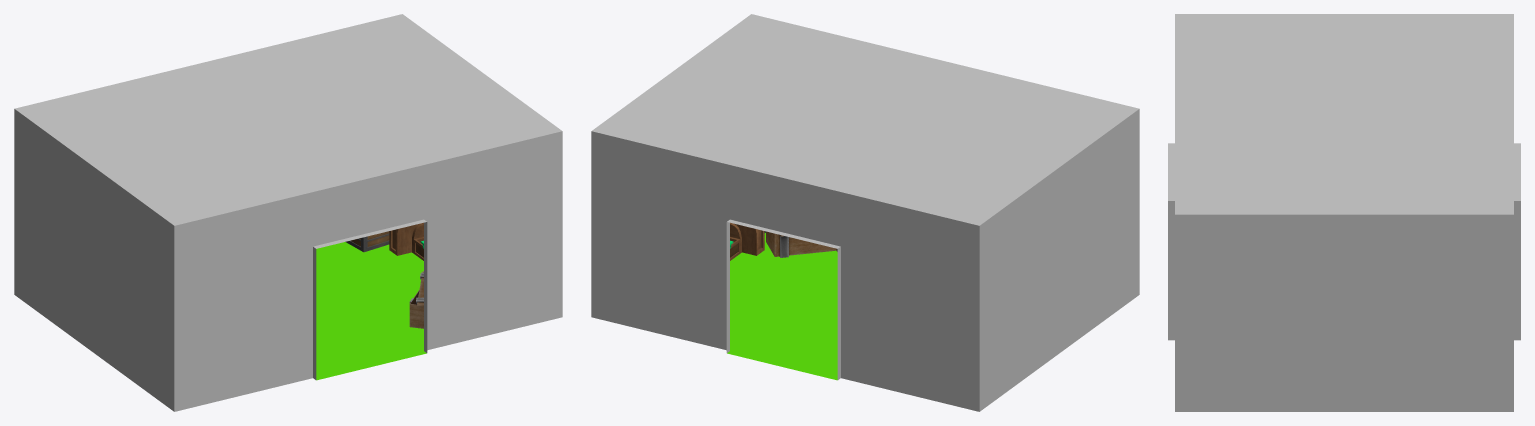
File: roomsB4.fbx
3 renders of one model, left to right at view 1: azimuth 30°, elevation 25°; view 2: azimuth 150°, elevation 25°; view 3: azimuth 270°, elevation 25°, orthographic. The views are drawn at different scales.
Visible parts, largest first — view 1: Plane.003, Plane.011, Plane.006, BézierCurve.047, Cube.144, Cube.147; view 2: Plane.003, Plane.011, Plane.006, Cube.144, BézierCurve.047; view 3: Plane.003, Plane.011.
Boxes of the visible parts, x1=… form: Plane.003: x1=14, y1=109, x2=562, y2=411; Plane.011: x1=15, y1=14, x2=562, y2=225; Plane.006: x1=316, y1=242, x2=426, y2=380; BézierCurve.047: x1=389, y1=222, x2=423, y2=260; Cube.144: x1=409, y1=271, x2=423, y2=328; Cube.147: x1=345, y1=231, x2=389, y2=252; Plane.003: x1=591, y1=109, x2=1139, y2=411; Plane.011: x1=591, y1=14, x2=1138, y2=225; Plane.006: x1=727, y1=233, x2=837, y2=380; Cube.144: x1=766, y1=231, x2=837, y2=257; BézierCurve.047: x1=730, y1=222, x2=764, y2=260; Plane.003: x1=1168, y1=143, x2=1520, y2=411; Plane.011: x1=1175, y1=14, x2=1513, y2=214.
Size of the model in its own units: 700 by 321 by 520.
